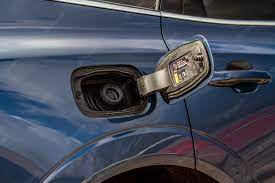open: (67, 62, 160, 119)
